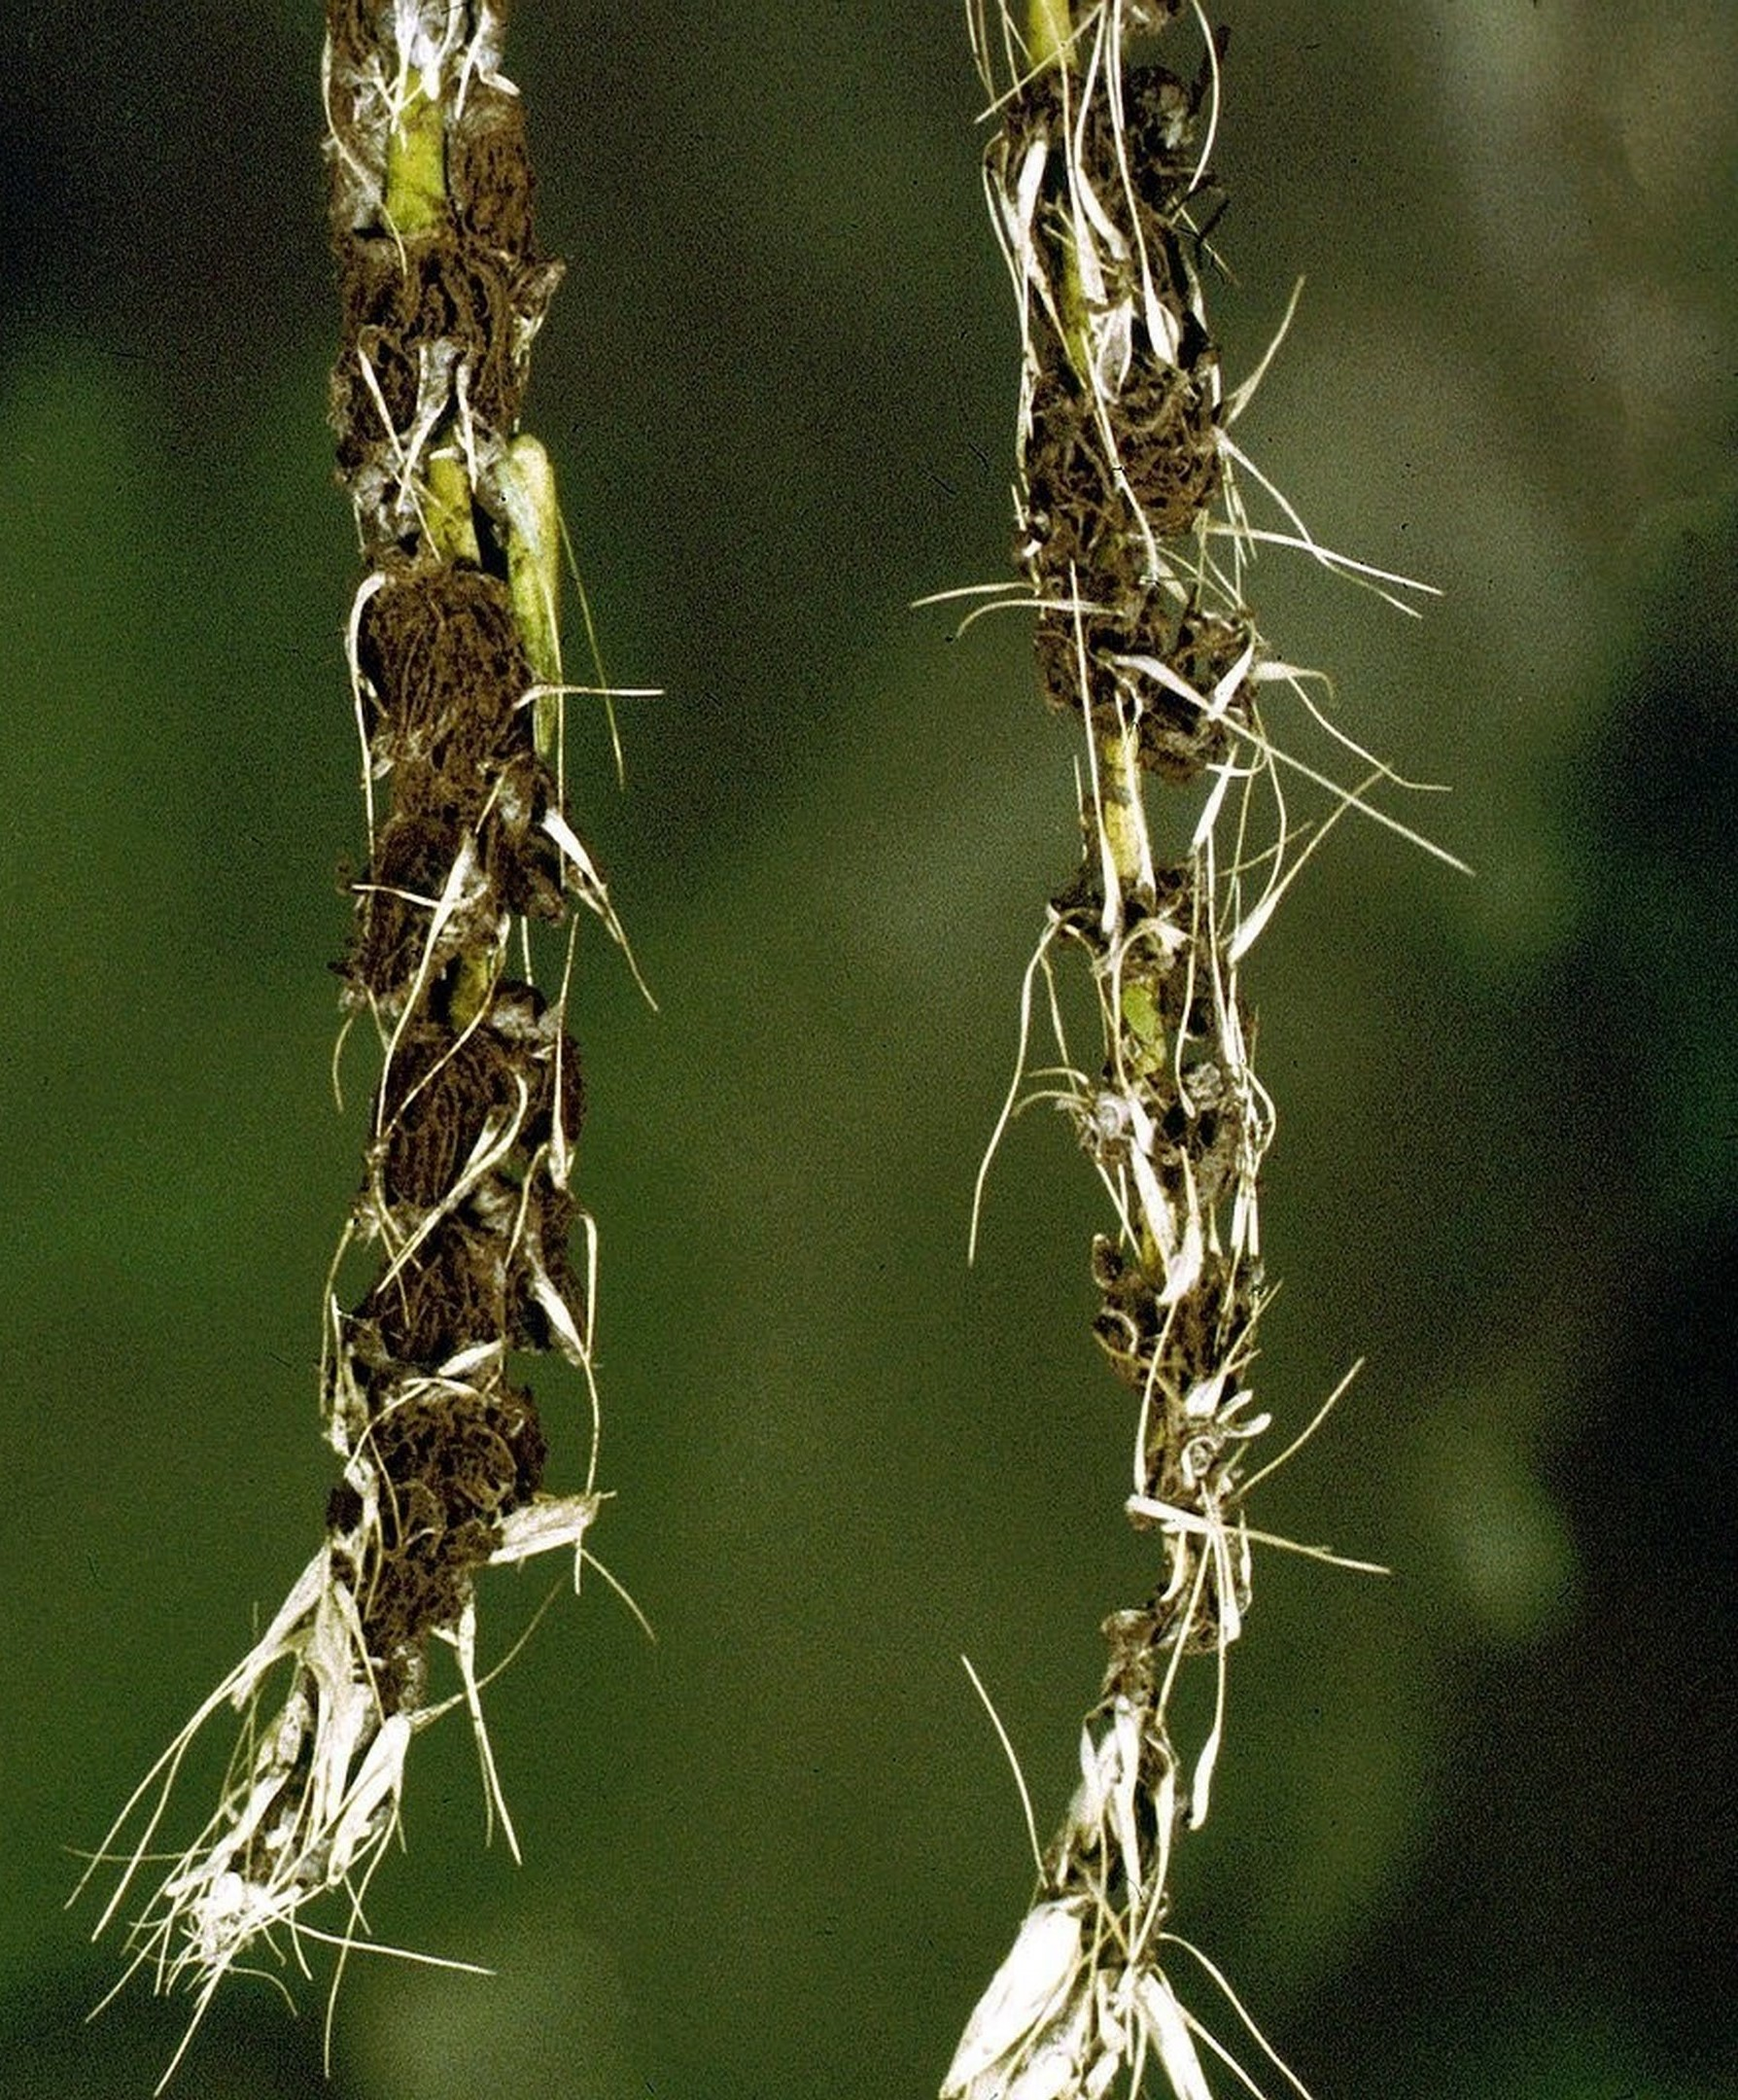Wheat Loose Smut: (207, 44, 748, 1898), (901, 58, 1396, 1934)
